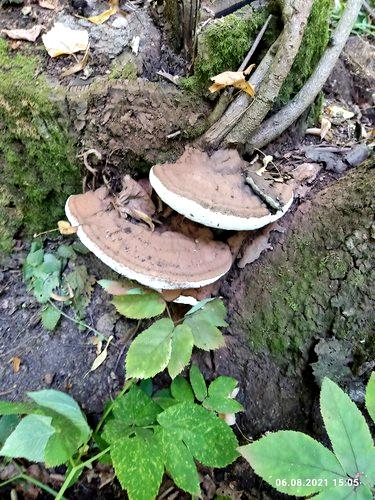Ganoderma - Fruit Body: (57, 144, 292, 295)
